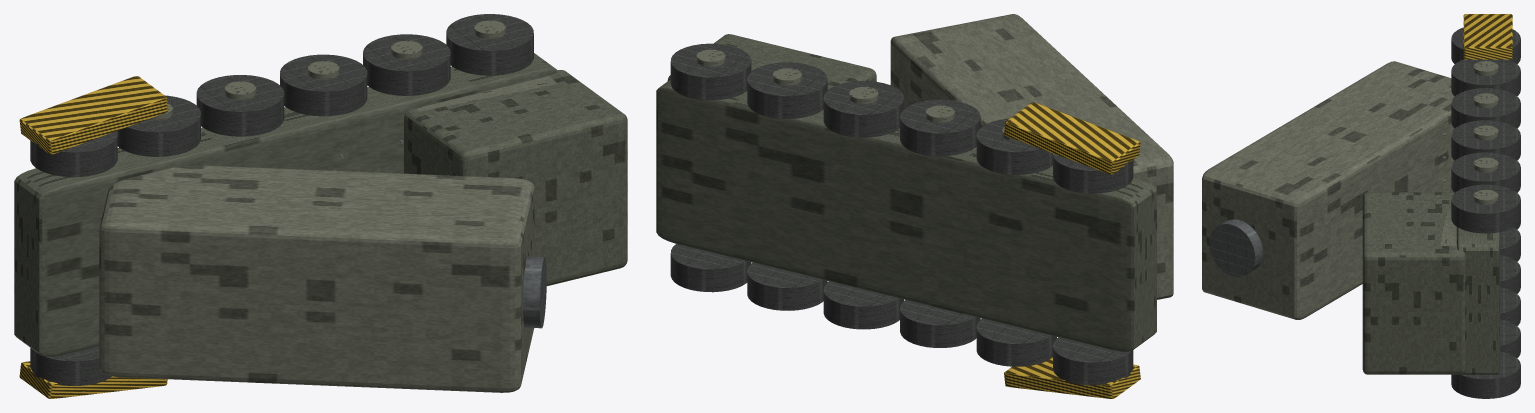
The model's file is v-x05-vanguard-strategic-lod0.glb.
3 views of the same model, side by side, from view 1: azimuth 30°, elevation 25°; view 2: azimuth 150°, elevation 25°; view 3: azimuth 270°, elevation 25° (orthographic). The views are drawn at different scales.
Visible parts, largest first — view 1: strategic_canister, strategic_lower, strategic_cab, strategic_jack_1, strategic_wheel_1_3, strategic_wheel_1_2, strategic_wheel_1_4, strategic_wheel_1_5, strategic_wheel_1_1, strategic_wheel_1_0, strategic_wheel_-1_0, strategic_jack_-1 (+2 smaller); view 2: strategic_lower, strategic_canister, strategic_jack_1, strategic_wheel_1_5, strategic_wheel_1_4, strategic_wheel_1_2, strategic_wheel_1_3, strategic_wheel_-1_0, strategic_wheel_-1_5, strategic_wheel_-1_3, strategic_wheel_-1_1, strategic_wheel_-1_4 (+5 smaller); view 3: strategic_canister, strategic_cab, strategic_lower, strategic_wheel_1_5, strategic_missile, strategic_jack_1, strategic_wheel_1_3, strategic_wheel_1_4, strategic_wheel_1_2, strategic_wheel_-1_5, strategic_wheel_1_1, strategic_wheel_1_0 (+10 smaller).
Part boxes in pixels (box(x1,y1,x2,y2)): strategic_canister: box(99, 164, 534, 392); strategic_lower: box(14, 53, 558, 356); strategic_cab: box(404, 70, 627, 285); strategic_jack_1: box(19, 76, 168, 154); strategic_wheel_1_3: box(280, 54, 367, 116); strategic_wheel_1_2: box(196, 75, 284, 136); strategic_wheel_1_4: box(363, 34, 450, 95); strategic_wheel_1_5: box(446, 14, 533, 75); strategic_wheel_1_1: box(117, 95, 200, 156); strategic_wheel_1_0: box(30, 131, 117, 177); strategic_wheel_-1_0: box(30, 346, 111, 385); strategic_jack_-1: box(19, 361, 167, 398); strategic_lower: box(656, 79, 1156, 351); strategic_canister: box(890, 14, 1173, 299); strategic_jack_1: box(1004, 102, 1140, 174); strategic_wheel_1_5: box(670, 43, 751, 100); strategic_wheel_1_4: box(747, 62, 827, 118); strategic_wheel_1_2: box(900, 99, 980, 156); strategic_wheel_1_3: box(823, 81, 903, 137); strategic_wheel_-1_0: box(1053, 337, 1133, 385); strategic_wheel_-1_5: box(670, 244, 751, 292); strategic_wheel_-1_3: box(823, 281, 903, 329); strategic_wheel_-1_1: box(976, 318, 1056, 366); strategic_wheel_-1_4: box(747, 262, 827, 310); strategic_canister: box(1202, 61, 1454, 319); strategic_cab: box(1362, 192, 1466, 374); strategic_lower: box(1456, 227, 1499, 374); strategic_wheel_1_5: box(1451, 184, 1520, 233); strategic_missile: box(1209, 219, 1262, 276); strategic_jack_1: box(1463, 14, 1512, 59); strategic_wheel_1_3: box(1451, 120, 1520, 160); strategic_wheel_1_4: box(1451, 152, 1520, 192); strategic_wheel_1_2: box(1451, 88, 1520, 128); strategic_wheel_-1_5: box(1451, 351, 1520, 398); strategic_wheel_1_1: box(1451, 59, 1520, 96); strategic_wheel_1_0: box(1451, 27, 1520, 64).
Size of what is drawn, in the model's own units: 11.37 by 5.9 by 7.47.
7 materials, 7 textured.
